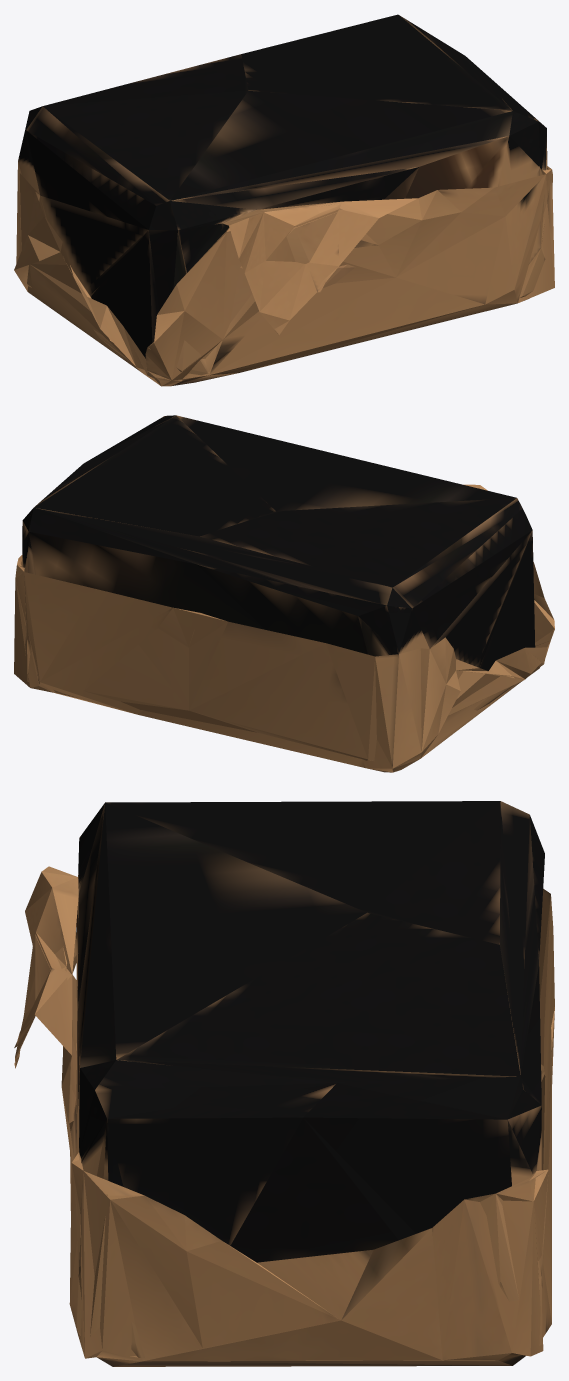
Rendered from DR_Bitumen.fbx.
The picture shows the model from 3 angles, top to bottom: view 1: azimuth 30°, elevation 25°; view 2: azimuth 150°, elevation 25°; view 3: azimuth 270°, elevation 25°; orthographic projection. The views are drawn at different scales.
Parts seen in each view (by area): view 1: part; view 2: part; view 3: part.
Part boxes in pixels (box(x1,y1,x2,y2)): part: box(14, 14, 554, 386); part: box(14, 415, 554, 772); part: box(14, 801, 554, 1366).
Bounding box in the file's own units: 24.74 × 10.9 × 17.48.
